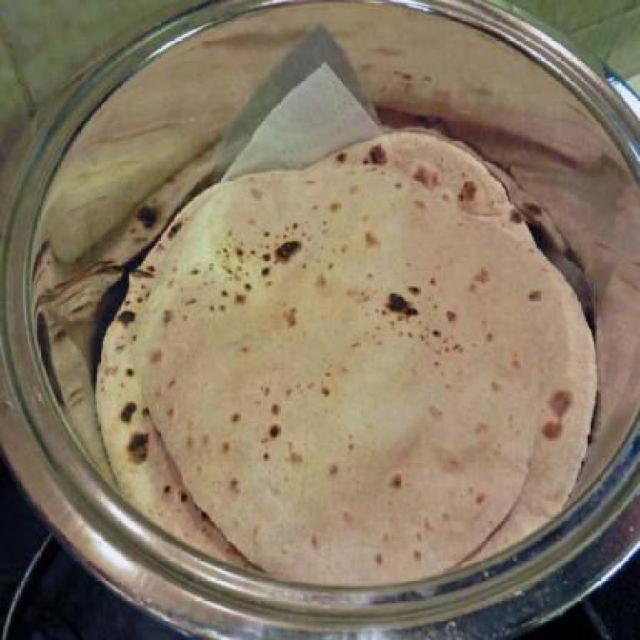chapati: (96, 130, 596, 588)
